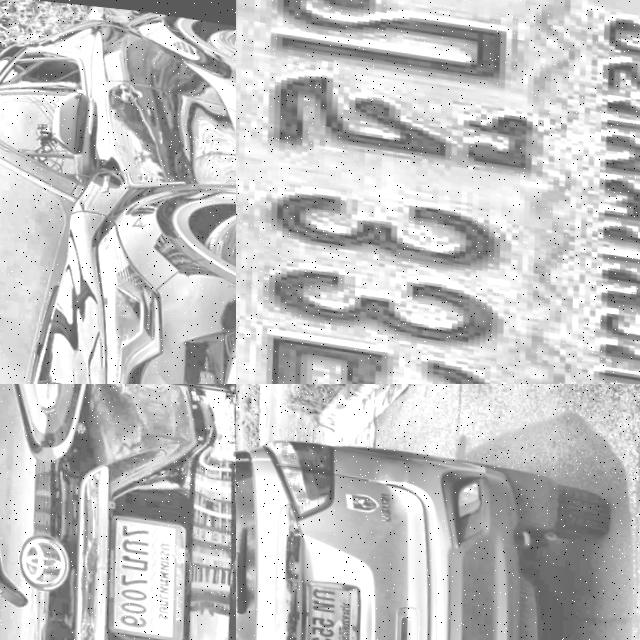license-plate: (236, 0, 640, 384), (101, 504, 189, 636), (296, 570, 362, 640)
